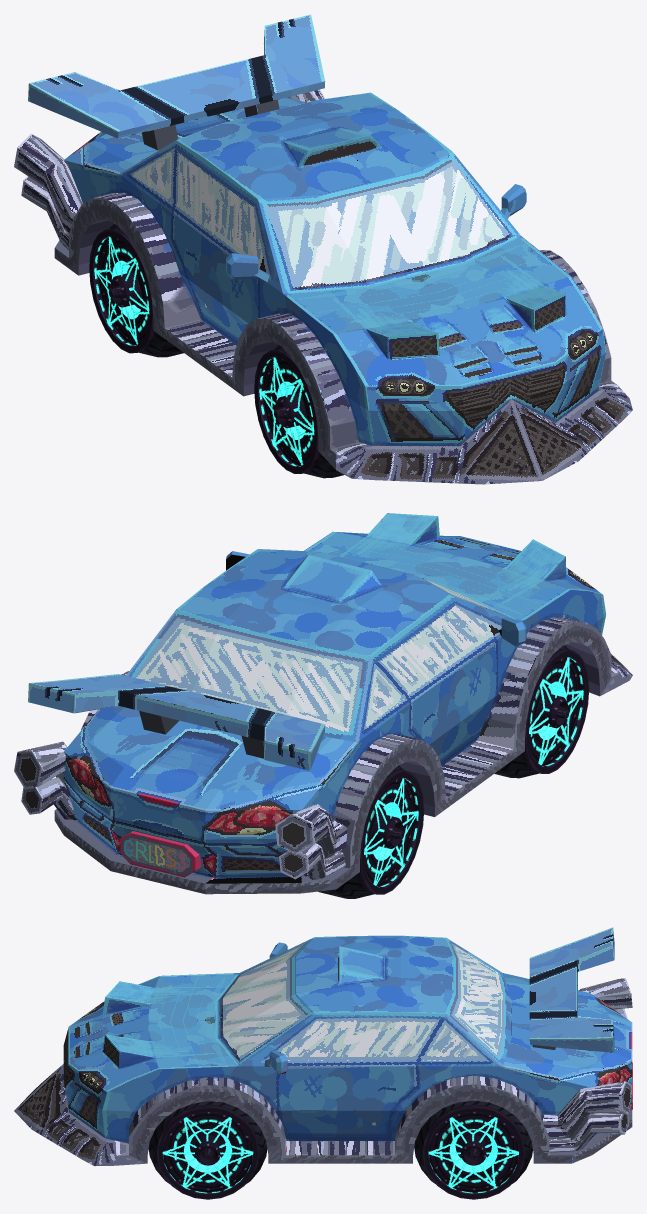
The model's file is Car_Custo3.glb.
The picture shows the model from 3 angles, top to bottom: view 1: azimuth 30°, elevation 25°; view 2: azimuth 150°, elevation 25°; view 3: azimuth 270°, elevation 25°; orthographic projection. The views are drawn at different scales.
Visible parts, largest first — view 1: body_Symmetry_FINAL, wheel-front-right, wheel-back-right; view 2: body_Symmetry_FINAL, wheel-front-right, wheel-back-right; view 3: body_Symmetry_FINAL, wheel-back-left, wheel-front-left.
Boxes of the visible parts, box(x1,y1,x2,y2) form: body_Symmetry_FINAL: box(14, 14, 632, 484); wheel-front-right: box(89, 224, 183, 357); wheel-back-right: box(254, 345, 344, 478); body_Symmetry_FINAL: box(14, 513, 632, 894); wheel-front-right: box(318, 765, 424, 898); wheel-back-right: box(494, 645, 589, 778); body_Symmetry_FINAL: box(14, 927, 632, 1166); wheel-back-left: box(414, 1100, 532, 1199); wheel-front-left: box(148, 1101, 267, 1199).
Size of what is drawn, in the model's own units: 1.39 by 1.08 by 3.08.
Materials: 2 (2 with a texture image).
